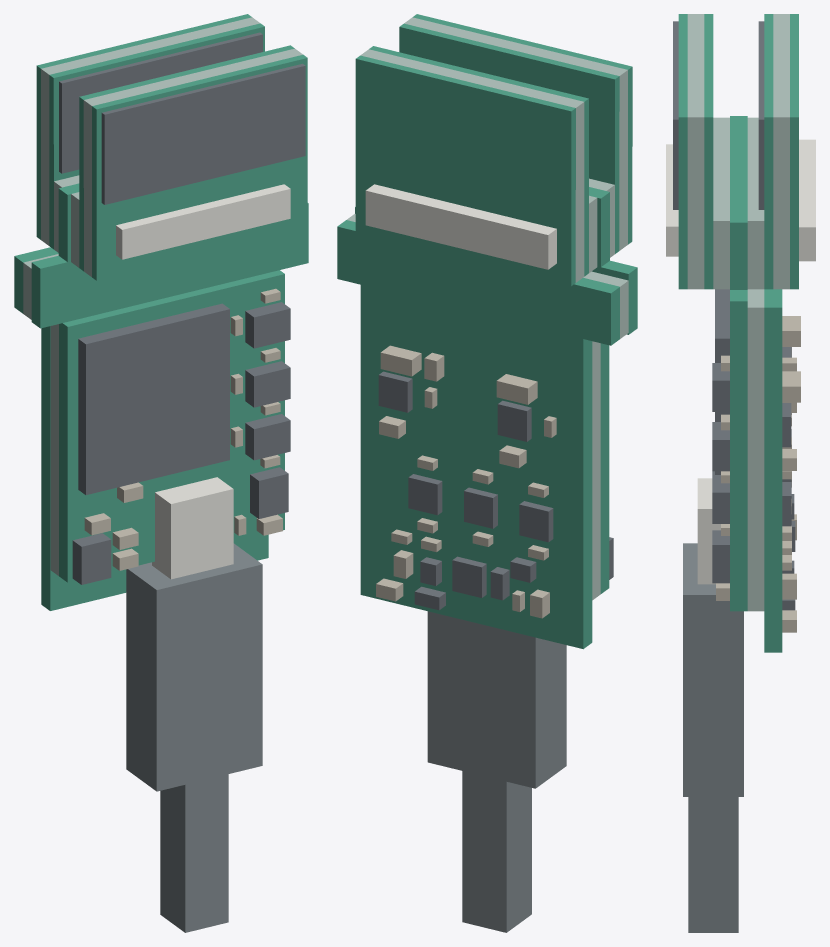
Rendered from Option_B_Head_Stack_V2_FE_V7_Solid.glb.
3 views of the same model, side by side, from view 1: azimuth 30°, elevation 25°; view 2: azimuth 150°, elevation 25°; view 3: azimuth 270°, elevation 25° (orthographic). The views are drawn at different scales.
Visible parts, largest first — view 1: ic, board, plug, conn, fill, passive; view 2: board, plug, fill, ic, conn, passive; view 3: board, fill, plug, ic, conn, passive.
Boxes of the visible parts, x1=… form: ic: x1=59, y1=32, x2=305, y2=584; board: x1=14, y1=14, x2=308, y2=610; plug: x1=126, y1=543, x2=262, y2=932; conn: x1=116, y1=184, x2=290, y2=579; fill: x1=23, y1=17, x2=302, y2=575; passive: x1=84, y1=288, x2=282, y2=570; board: x1=337, y1=14, x2=637, y2=649; plug: x1=427, y1=611, x2=566, y2=932; fill: x1=347, y1=17, x2=628, y2=600; ic: x1=378, y1=371, x2=613, y2=610; conn: x1=365, y1=184, x2=556, y2=269; passive: x1=376, y1=345, x2=556, y2=618; board: x1=678, y1=14, x2=798, y2=652; fill: x1=687, y1=14, x2=789, y2=611; plug: x1=683, y1=543, x2=743, y2=932; ic: x1=673, y1=21, x2=795, y2=610; conn: x1=666, y1=139, x2=815, y2=584; passive: x1=716, y1=316, x2=800, y2=632.
Size of the model in its own units: 27.9 by 84.45 by 13.47.
